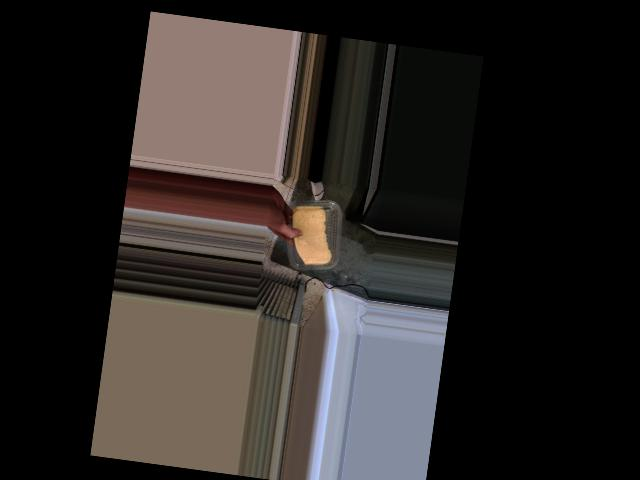cheese: (281, 196, 341, 273)
